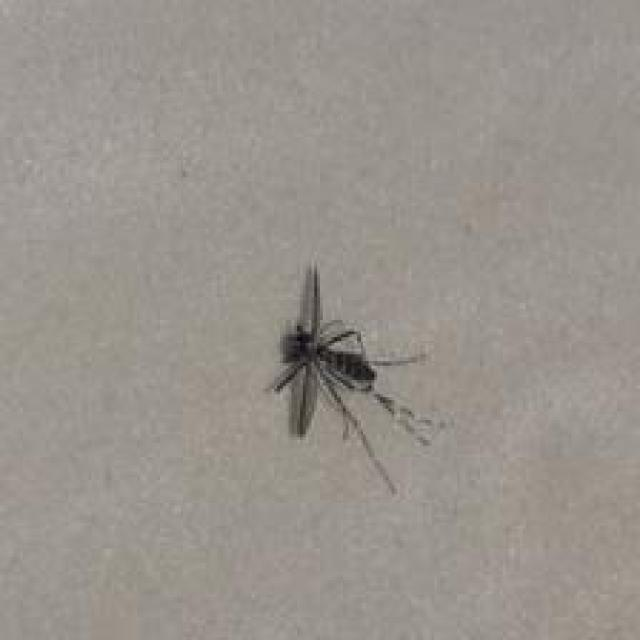Aedes albopictus: (262, 260, 438, 497)
